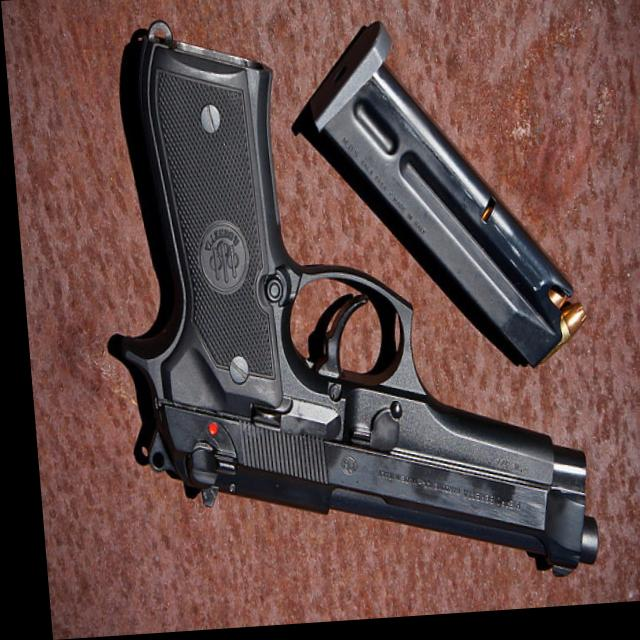handgun: (92, 15, 590, 607)
